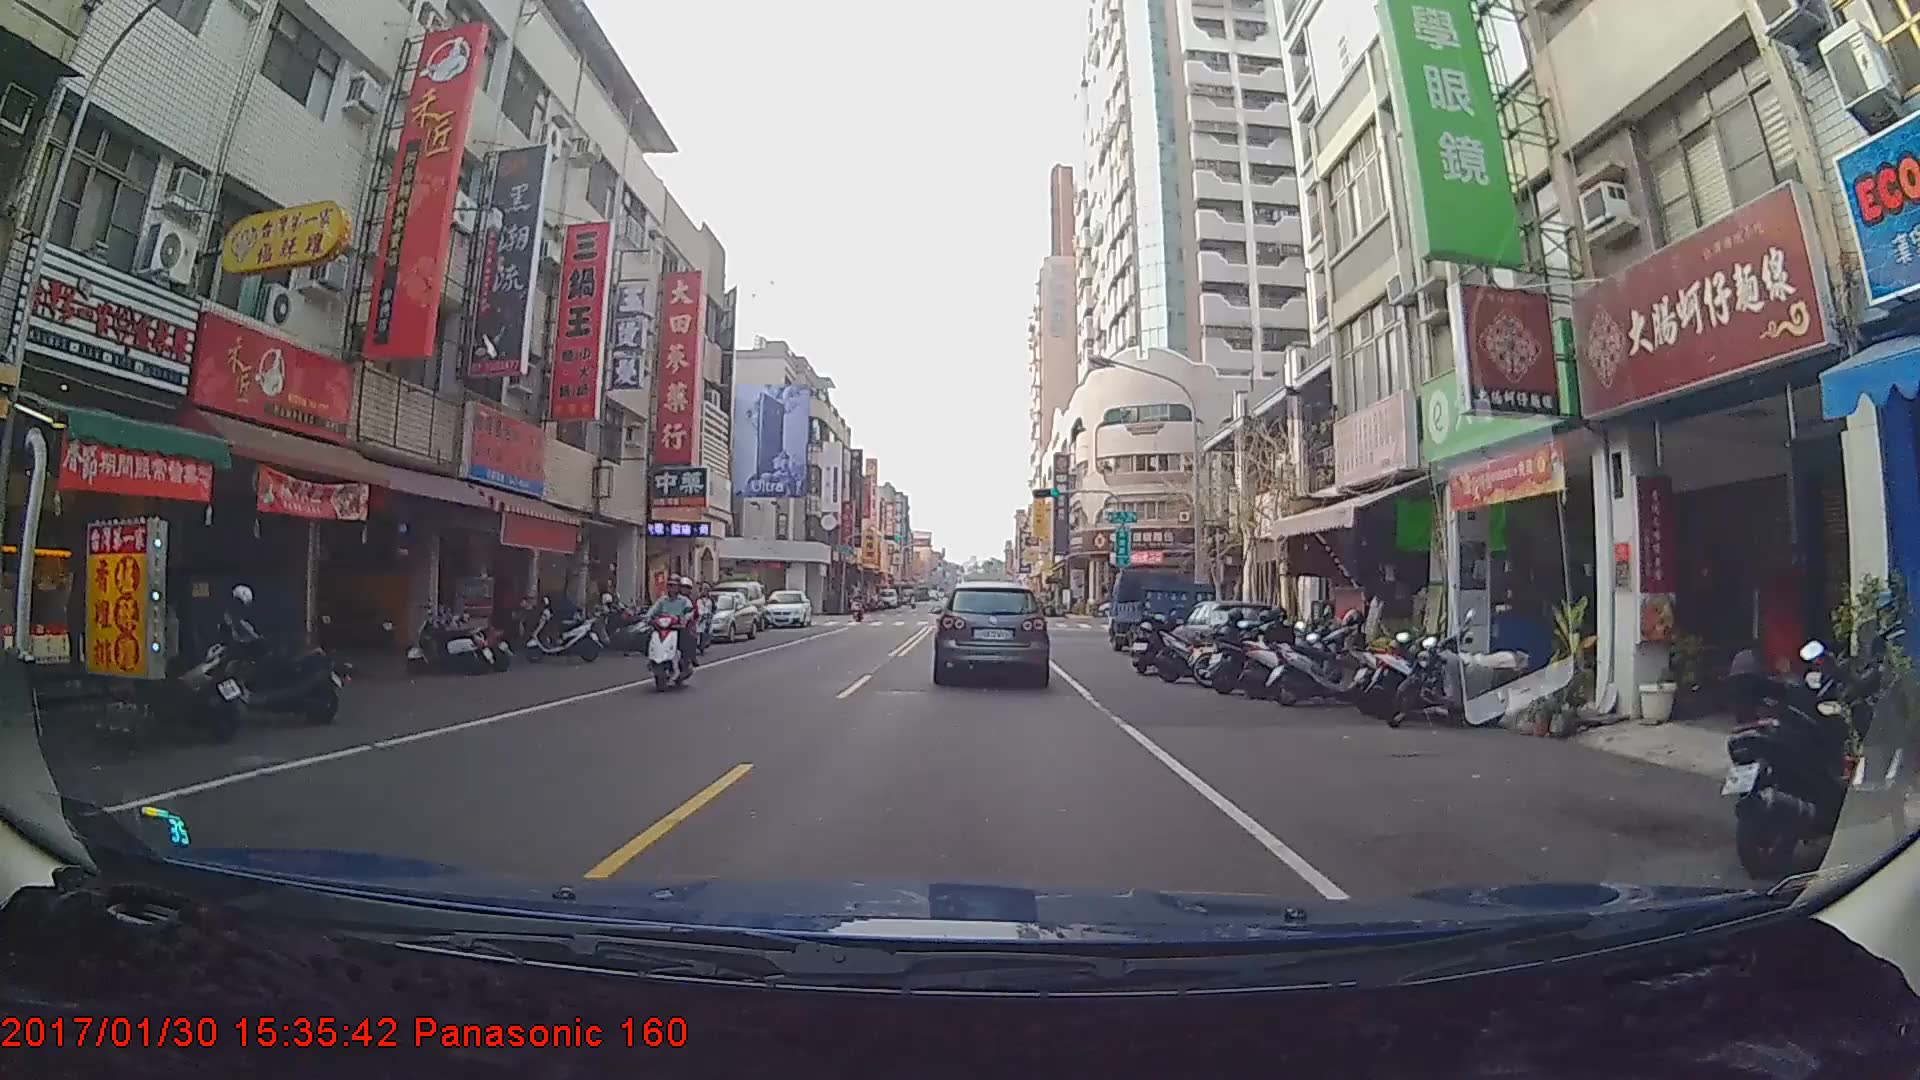rider: (642, 572, 708, 697), (848, 582, 868, 617)
vehicle: (936, 580, 1049, 682), (1104, 564, 1218, 654), (669, 588, 760, 644), (759, 584, 810, 627)
